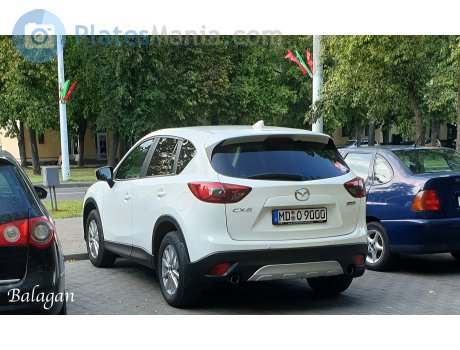License Plates: (278, 211, 322, 218)
